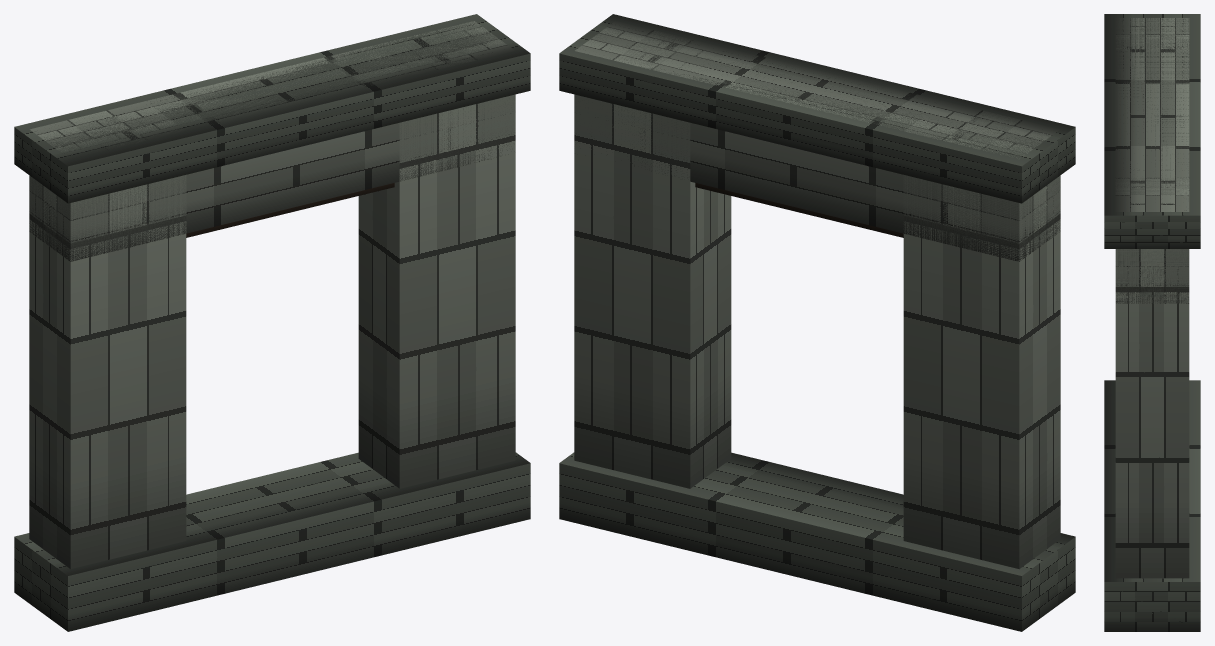
The model's file is wall_door.gltf.
The picture shows the model from 3 angles, left to right: view 1: azimuth 30°, elevation 25°; view 2: azimuth 150°, elevation 25°; view 3: azimuth 270°, elevation 25°; orthographic projection. The views are drawn at different scales.
Visible parts, largest first — view 1: wall_door; view 2: wall_door; view 3: wall_door.
Part boxes in pixels (box(x1,y1,x2,y2)): wall_door: box(14, 14, 530, 631); wall_door: box(559, 14, 1075, 631); wall_door: box(1104, 14, 1200, 631).
Bounding box in the file's own units: 1.04 × 1 × 0.21.
1 material, 1 textured.
